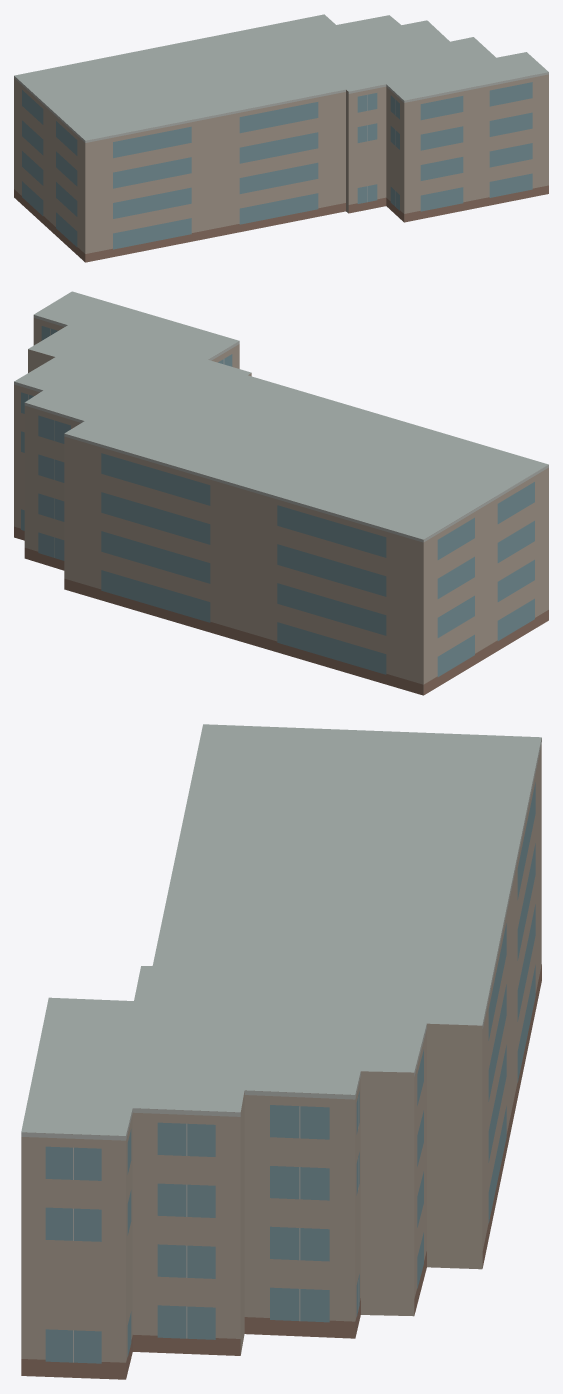
The model's file is survey-upis-32491520.glb.
3 views of the same model, one above another, from view 1: azimuth 30°, elevation 25°; view 2: azimuth 150°, elevation 25°; view 3: azimuth 270°, elevation 25° (orthographic). The views are drawn at different scales.
Parts seen in each view (by area): view 1: survey-upis-32491520.tmp; view 2: survey-upis-32491520.tmp; view 3: survey-upis-32491520.tmp.
Part boxes in pixels (left/top/right/bottom): survey-upis-32491520.tmp: left=14, top=14, right=548, bottom=262; survey-upis-32491520.tmp: left=14, top=291, right=548, bottom=695; survey-upis-32491520.tmp: left=21, top=724, right=541, bottom=1379.
Bounding box in the file's own units: 46.77 × 12.9 × 24.99.
